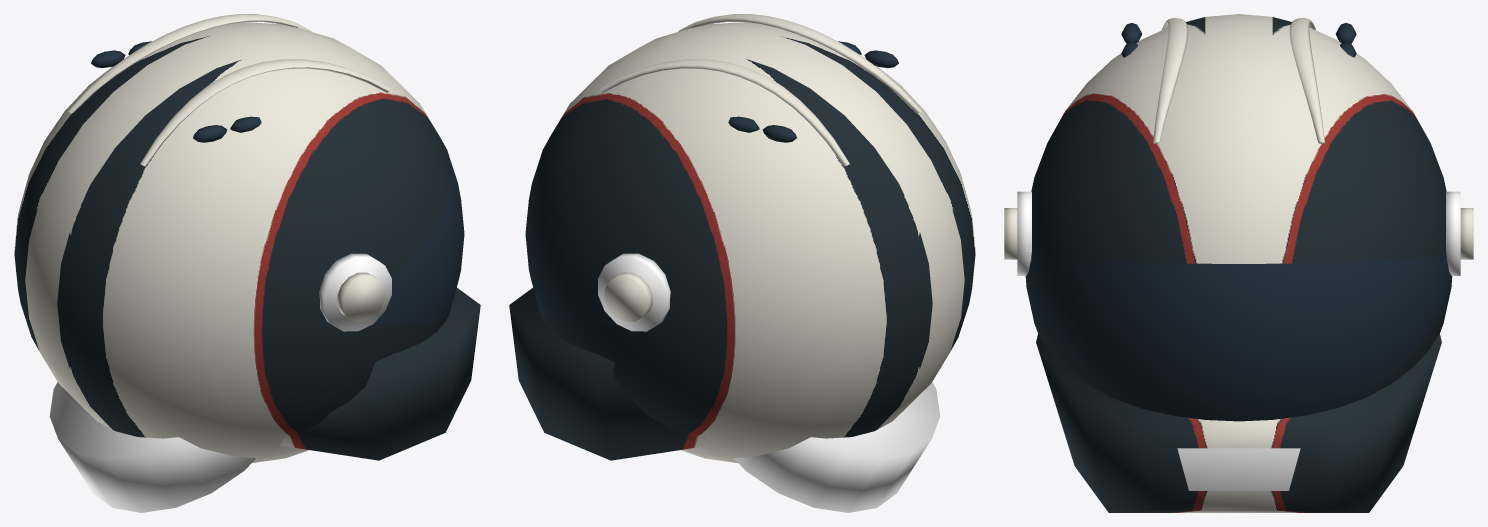
File: Helmet_13_R_黒潮・片流れ.glb
3 views of the same model, side by side, from view 1: azimuth 30°, elevation 25°; view 2: azimuth 150°, elevation 25°; view 3: azimuth 270°, elevation 25° (orthographic). The views are drawn at different scales.
Parts seen in each view (by area): view 1: Helmet_13_R, Visor; view 2: Helmet_13_R, Visor; view 3: Helmet_13_R, Visor.
Part boxes in pixels (x1,y1,x2,y2): Helmet_13_R: (14, 14, 480, 512); Visor: (91, 41, 464, 324); Helmet_13_R: (509, 14, 975, 512); Visor: (525, 41, 898, 324); Helmet_13_R: (1004, 14, 1473, 512); Visor: (1026, 23, 1451, 421).
Size of the model in its own units: 0.301 by 0.305 by 0.289.
Materials: 3 (3 with a texture image).
